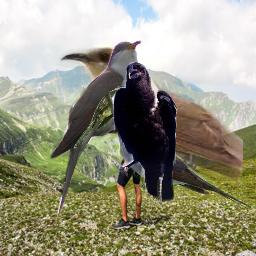Crow: (112, 61, 178, 206)
Cuckoo: (56, 47, 243, 184), (49, 40, 143, 219), (106, 124, 253, 213), (73, 85, 132, 151)
